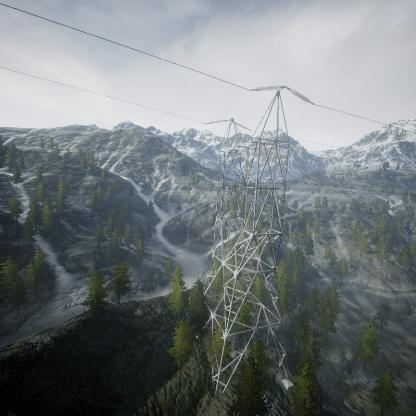tower: (201, 83, 318, 396)
